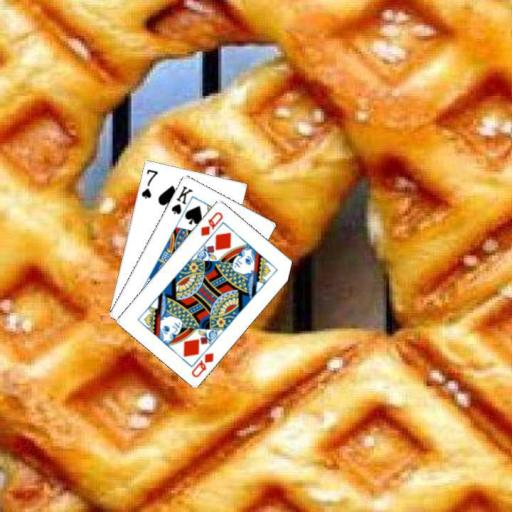7S: (138, 166, 159, 200)
KS: (168, 182, 194, 216)
QD: (197, 209, 225, 238), (188, 349, 215, 379)
